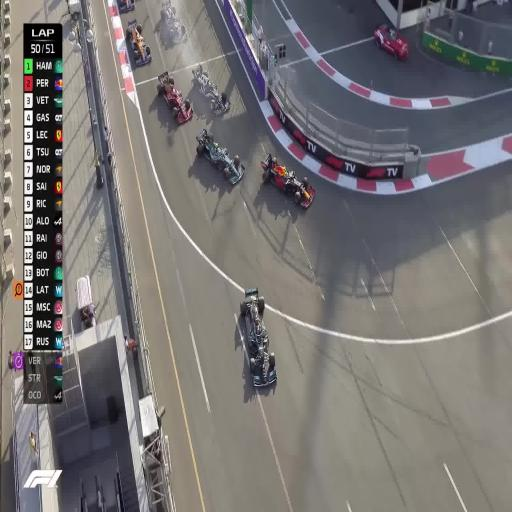f1_car: (240, 288, 276, 386), (261, 153, 314, 208), (196, 128, 244, 184), (157, 71, 193, 124), (192, 64, 230, 114), (126, 18, 151, 65), (161, 0, 187, 42), (118, 0, 135, 13)
